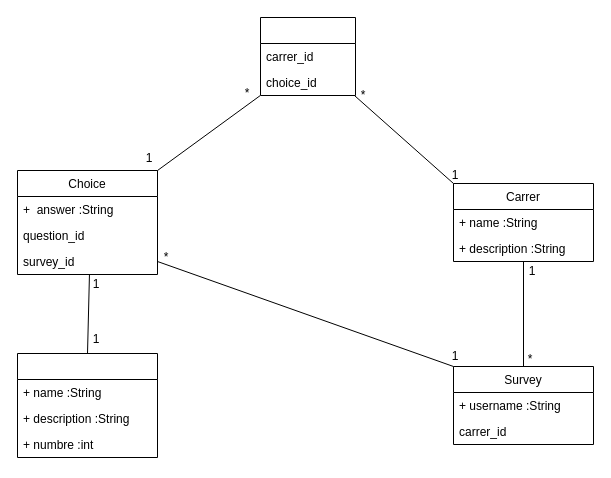
Some shapes in this 611 by 478 pixel diagram are drawn without their labels. Here are the shapes that lost their labels. From the top down, the box of each, then its label:
(260, 16, 356, 96): Outcome
(16, 352, 158, 458): Question
